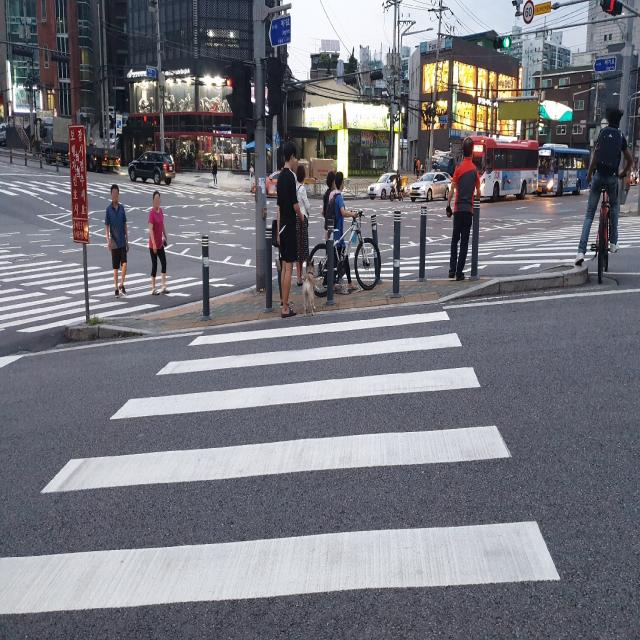횡단보도: (0, 307, 563, 618), (0, 243, 224, 338), (424, 223, 640, 259)
